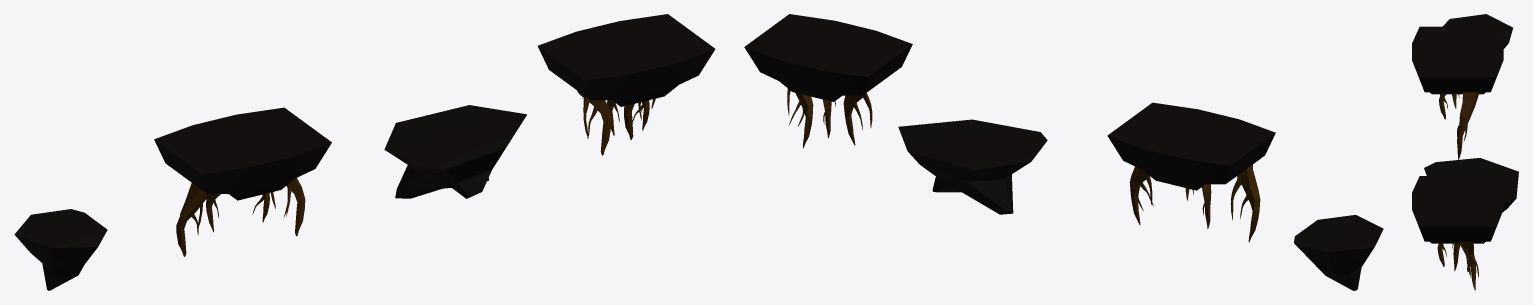
Rendered from FloatingRocks.FBX.
3 views of the same model, side by side, from view 1: azimuth 30°, elevation 25°; view 2: azimuth 150°, elevation 25°; view 3: azimuth 270°, elevation 25° (orthographic). The views are drawn at different scales.
Visible parts, largest first — view 1: RockFloating2, RockFloating4, RockFloating3, RockFloating1; view 2: RockFloating2, RockFloating4, RockFloating3, RockFloating1; view 3: RockFloating2, RockFloating4, RockFloating3, RockFloating1.
Part boxes in pixels (left/top/right/bottom): RockFloating2: left=154, top=107, right=331, bottom=256; RockFloating4: left=537, top=14, right=715, bottom=155; RockFloating3: left=384, top=105, right=526, bottom=198; RockFloating1: left=14, top=209, right=107, bottom=290; RockFloating2: left=1107, top=102, right=1275, bottom=242; RockFloating4: left=744, top=14, right=912, bottom=148; RockFloating3: left=898, top=119, right=1047, bottom=214; RockFloating1: left=1294, top=215, right=1383, bottom=290; RockFloating2: left=1412, top=26, right=1503, bottom=159; RockFloating4: left=1412, top=176, right=1503, bottom=290; RockFloating3: left=1424, top=158, right=1518, bottom=212; RockFloating1: left=1443, top=14, right=1512, bottom=48.
Size of the model in its own units: 286 by 47.46 by 50.29.
